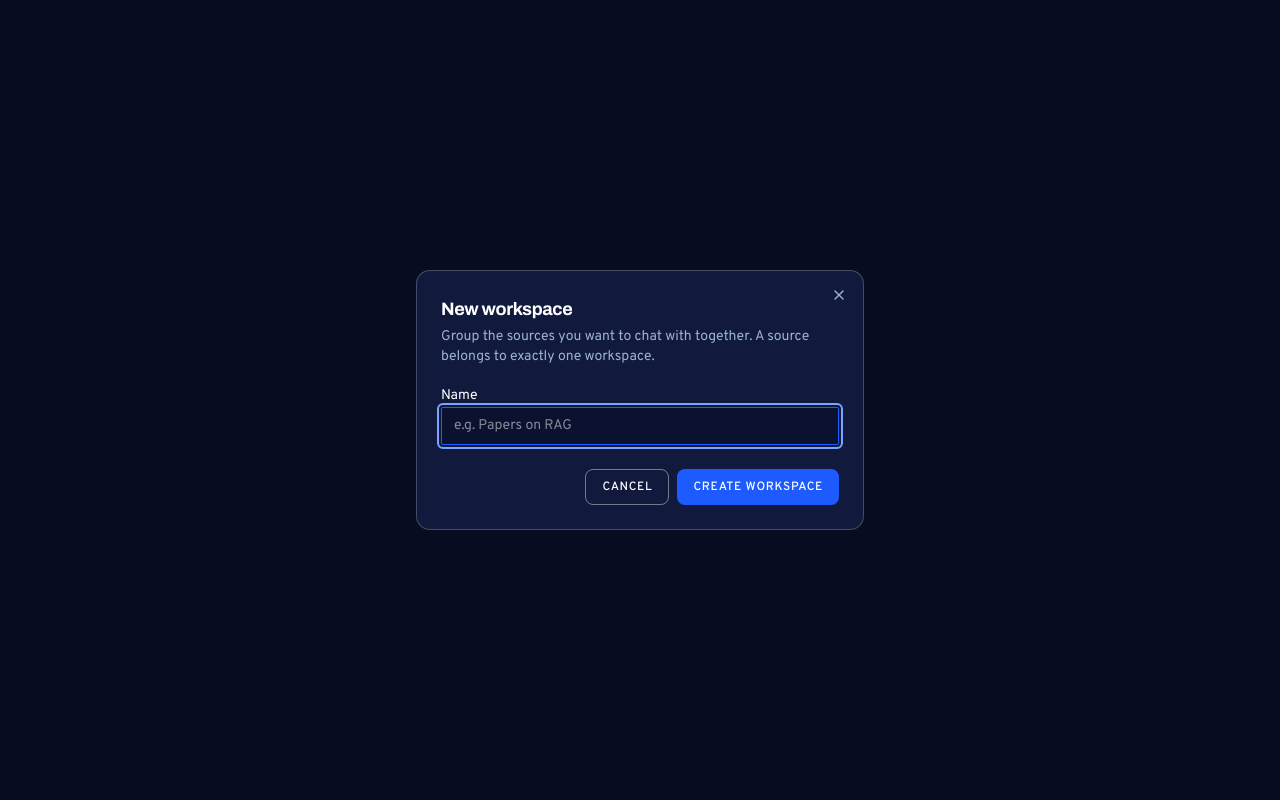
Test: NewWorkspaceDialog › renders PLAN_LIMIT_EXCEEDED inline in the dialog, not as a toast
The image size is (1280, 800).
Type "Another" into the field labelled "Name" at (640, 426), box [441,407,839,445]
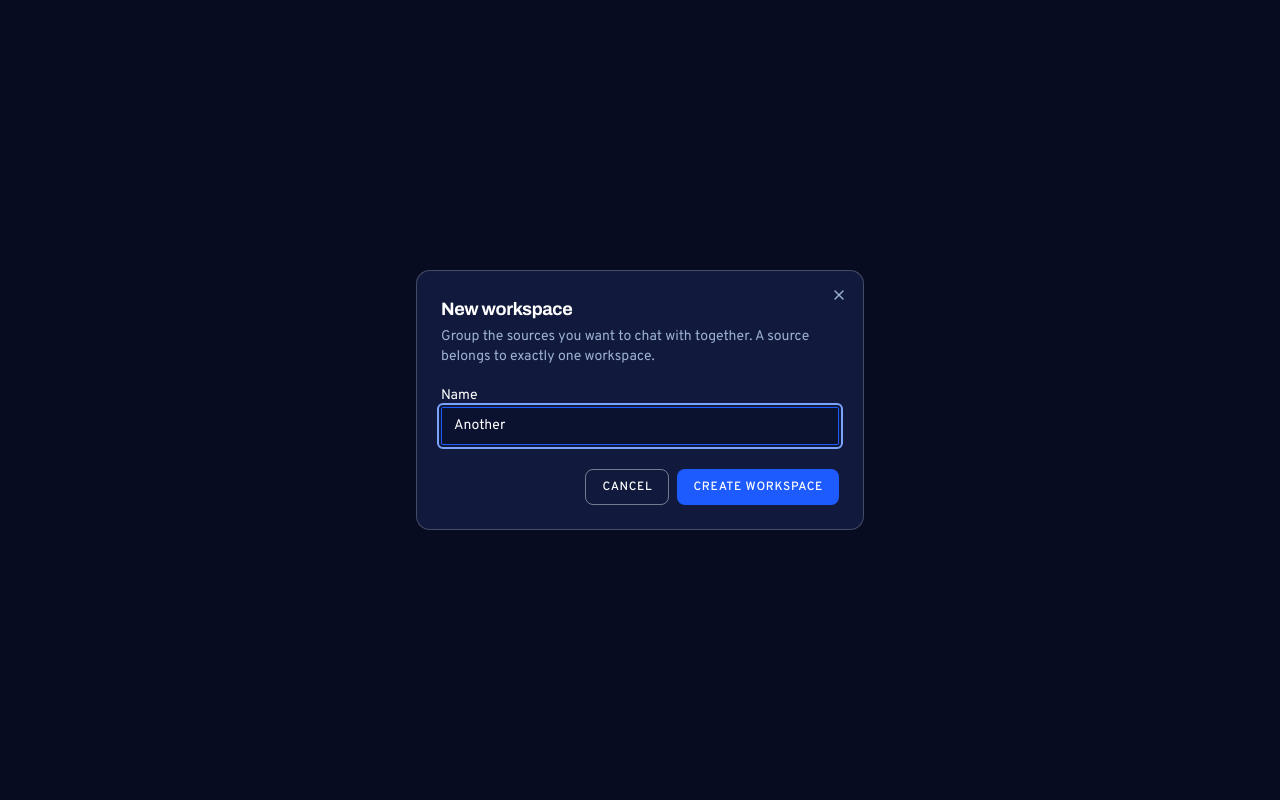
Click the button "Create workspace" at (758, 487), box [678,469,839,505]
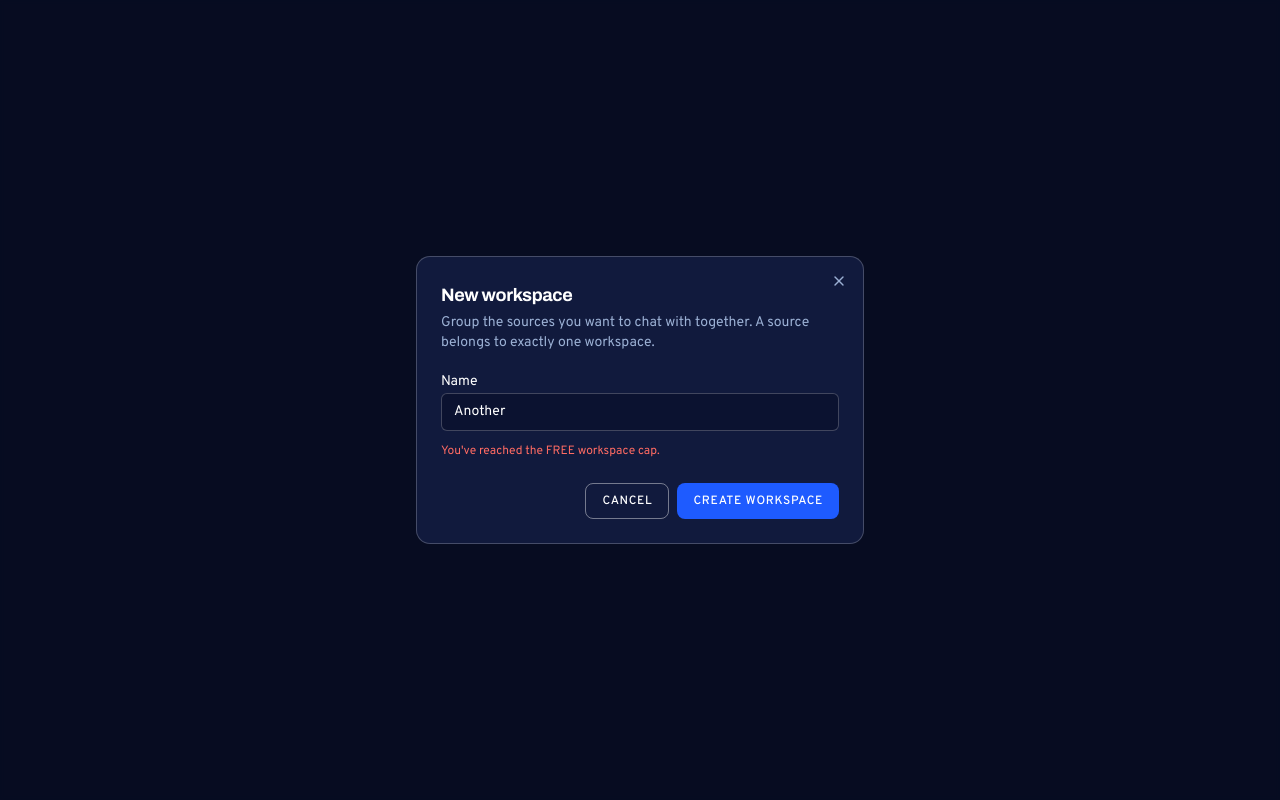
Check: the message shows "FREE workspace cap", box [441,443,660,459]
